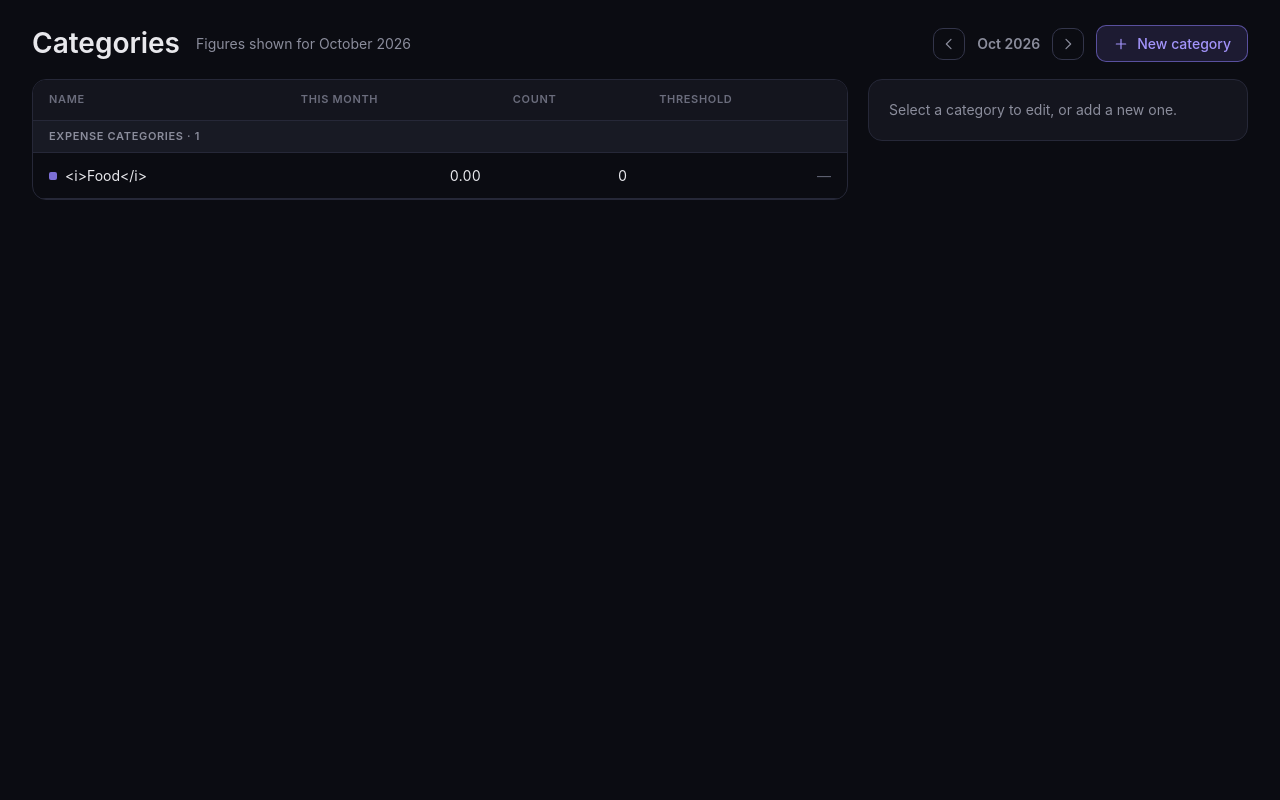
CategoriesPage translations › the delete confirmation shows a name containing markup as plain text
Click the button "<i>Food</i>" at (159, 176), box x1=49 y1=166 x2=269 y2=186
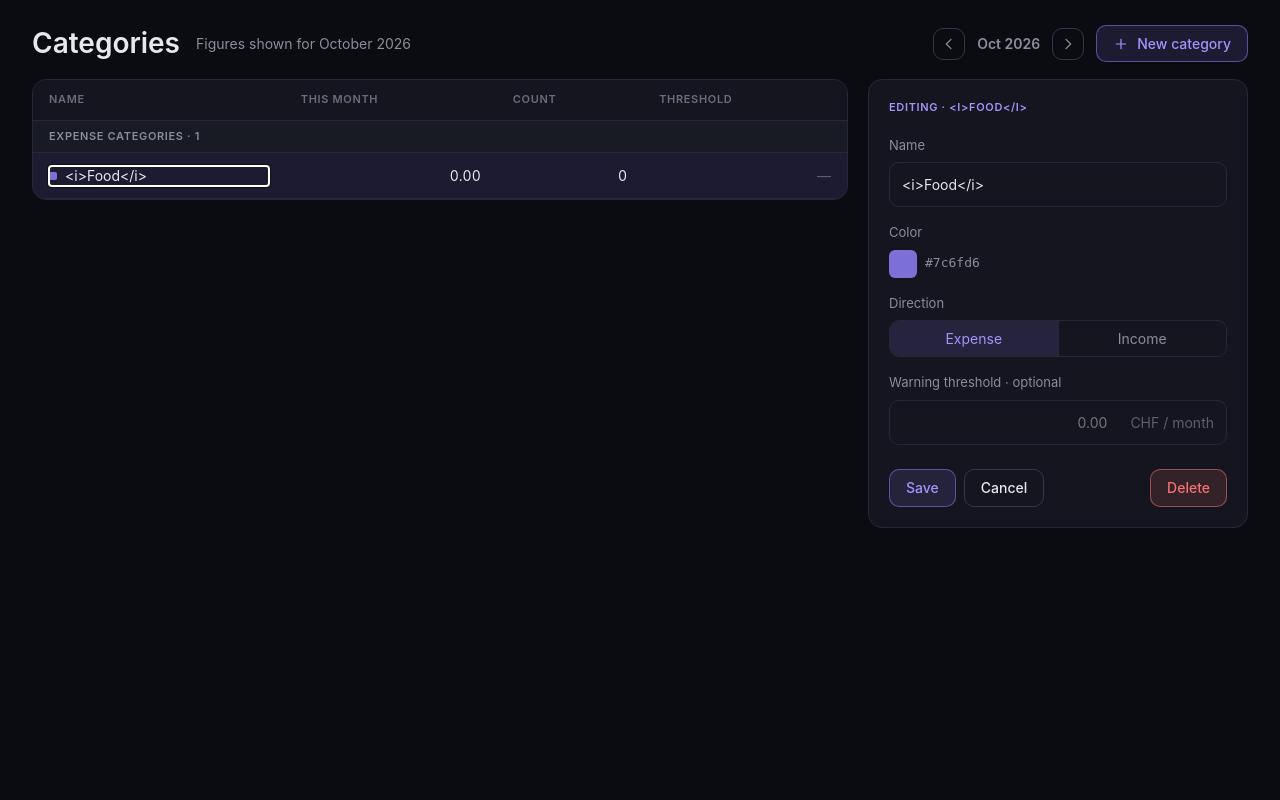
Click the button "Delete" at (1189, 488), box x1=1150 y1=469 x2=1227 y2=507
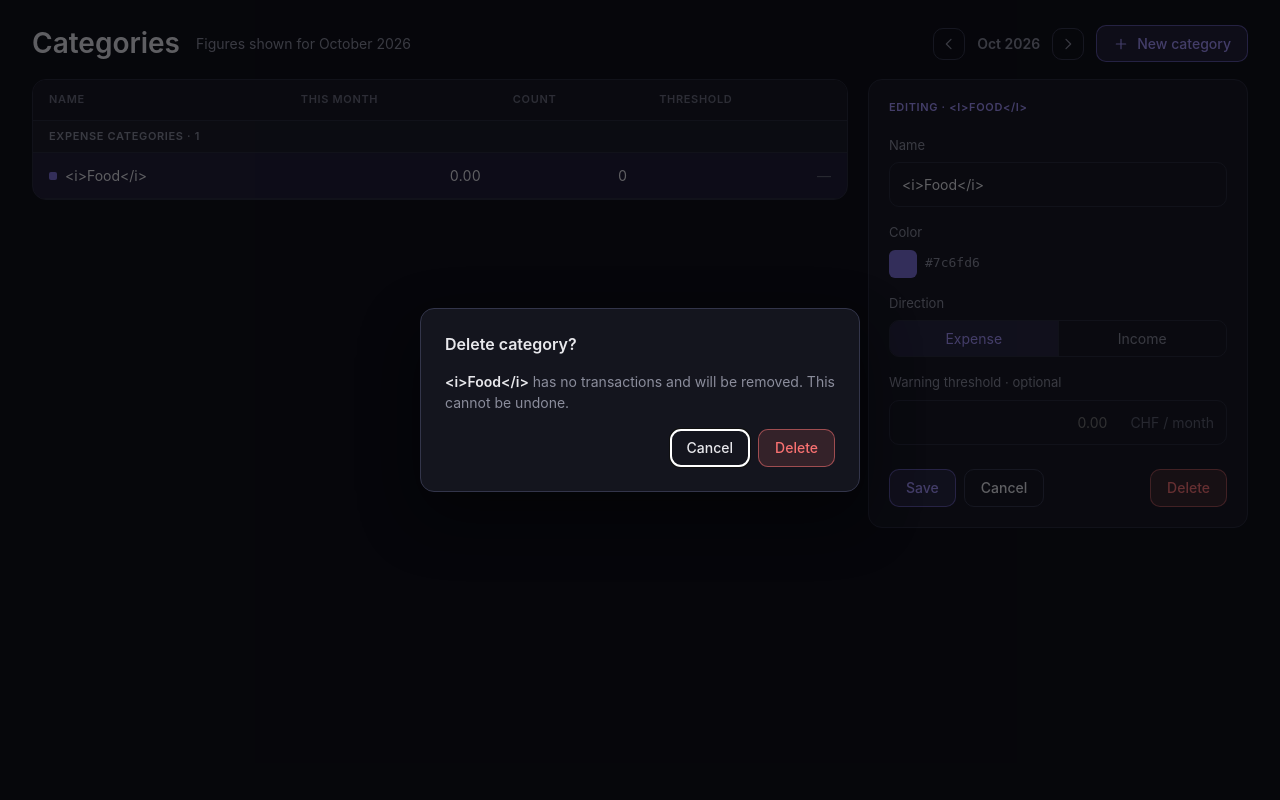
Expected: the dialog shows "has no transactions and will be removed", x1=445 y1=373 x2=835 y2=411
